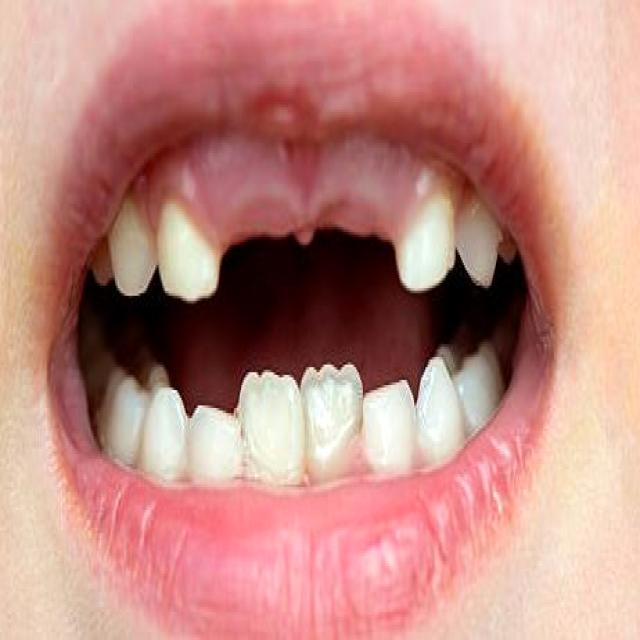hypodontia: (177, 140, 446, 291)
